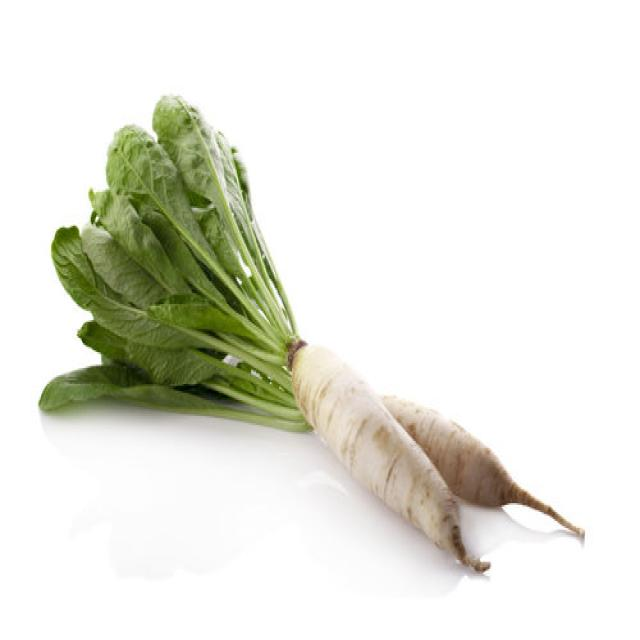Radish: (38, 92, 584, 576), (284, 336, 492, 574), (379, 391, 585, 541)
